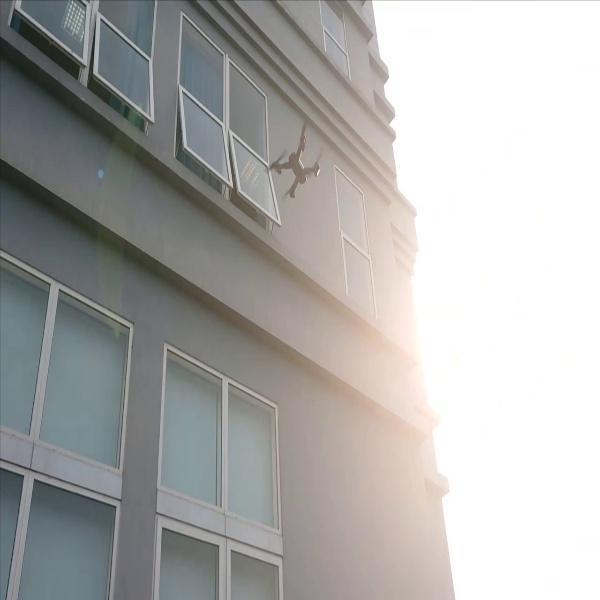drone: (265, 121, 328, 212)
